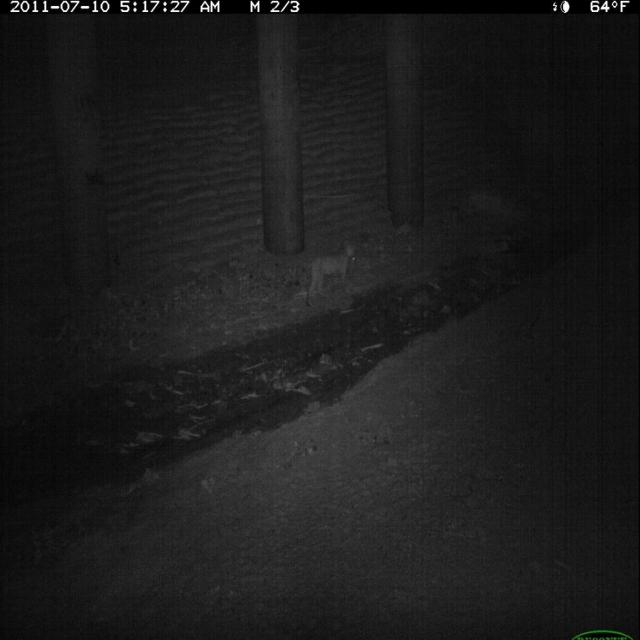bobcat: (301, 236, 364, 314)
